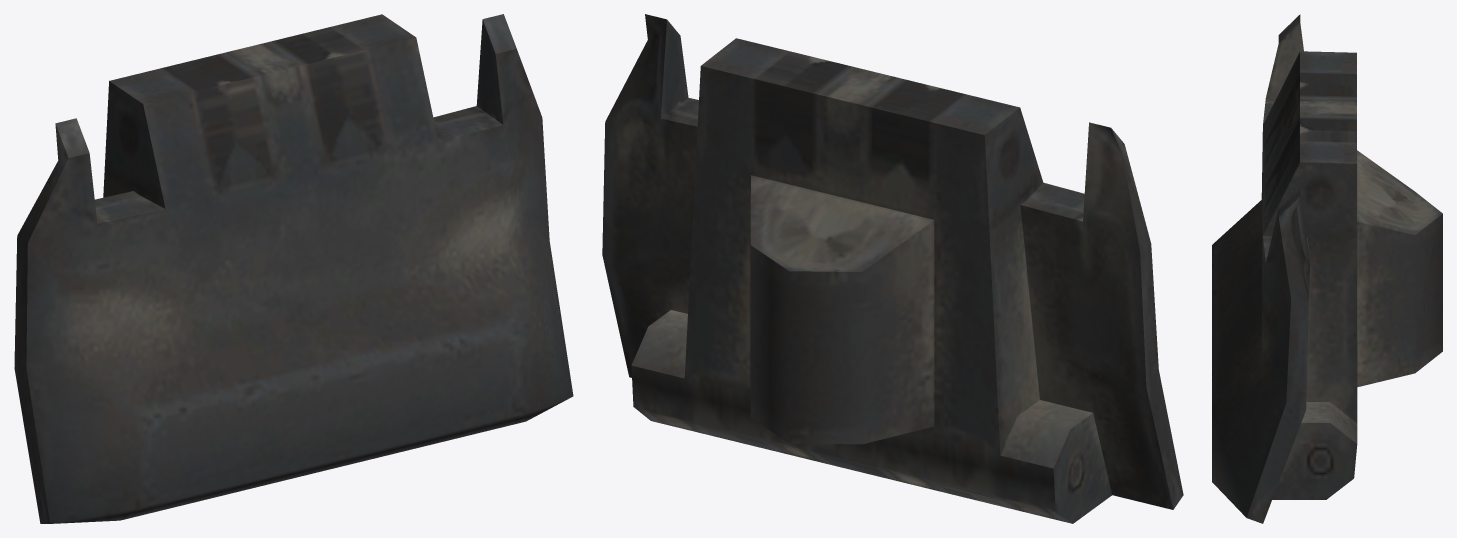
The picture shows the model from 3 angles, left to right: view 1: azimuth 30°, elevation 25°; view 2: azimuth 150°, elevation 25°; view 3: azimuth 270°, elevation 25°; orthographic projection. The views are drawn at different scales.
Parts seen in each view (by area): view 1: set_0_group_0; view 2: set_0_group_0; view 3: set_0_group_0.
Part boxes in pixels (left/top/right/bottom): set_0_group_0: left=14, top=14, right=573, bottom=523; set_0_group_0: left=602, top=14, right=1183, bottom=523; set_0_group_0: left=1212, top=14, right=1442, bottom=523.
Size of the model in its own units: 0.3558 by 0.2436 by 0.1631.
1 material, 1 textured.
